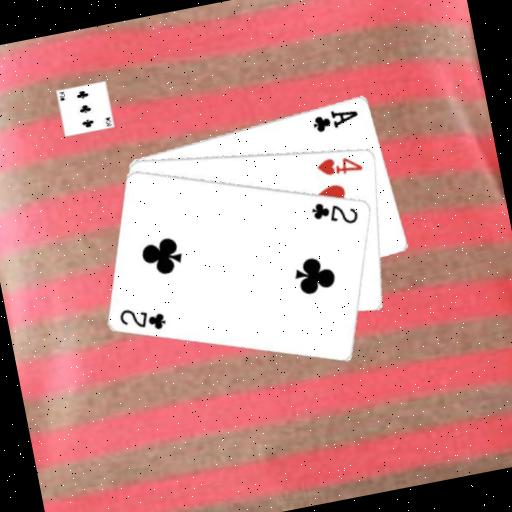2C: (307, 193, 362, 233), (116, 299, 170, 338)
4H: (313, 149, 365, 181)
AC: (308, 102, 362, 135)
